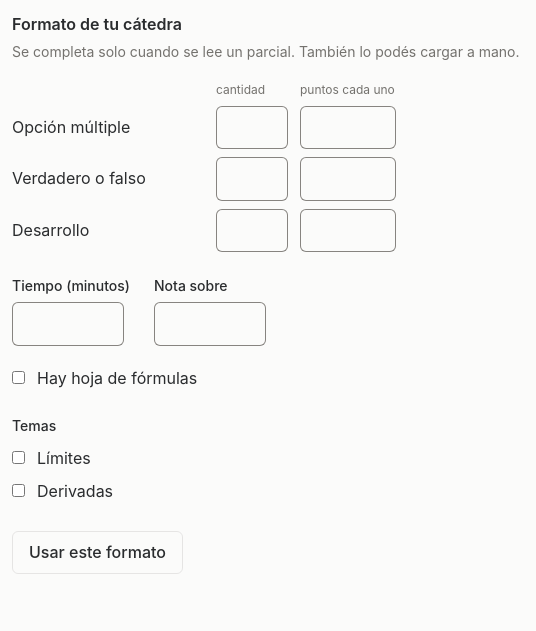
Scenario: Formato de la cátedra › un 400 muestra el texto del servidor
Click the button "Usar este formato".
click(97, 553)  # box [12,531,183,574]
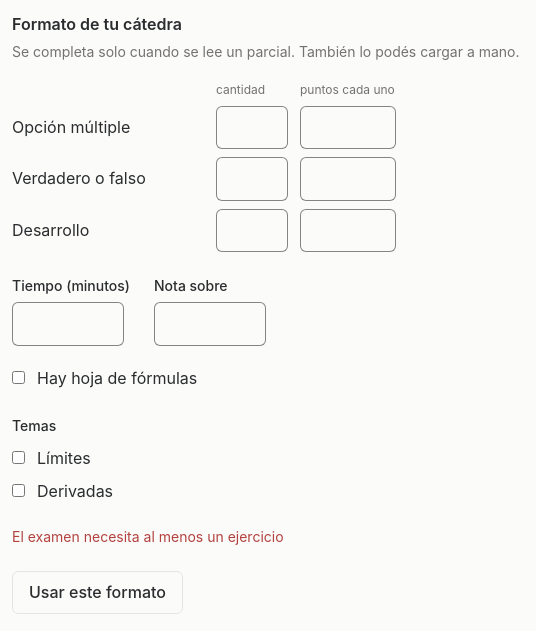
Expected: the message reads "El examen necesita al menos un ejercicio", [12,528,284,545]
